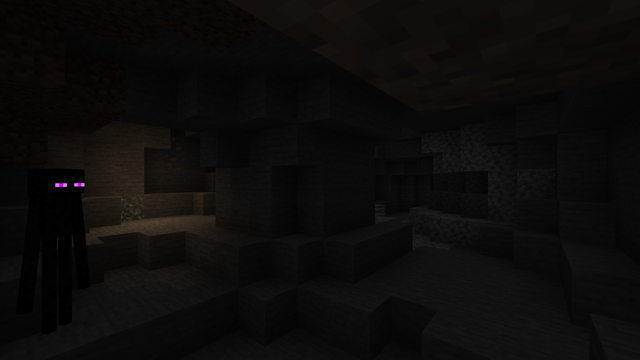endermens: (31, 162, 82, 342)
